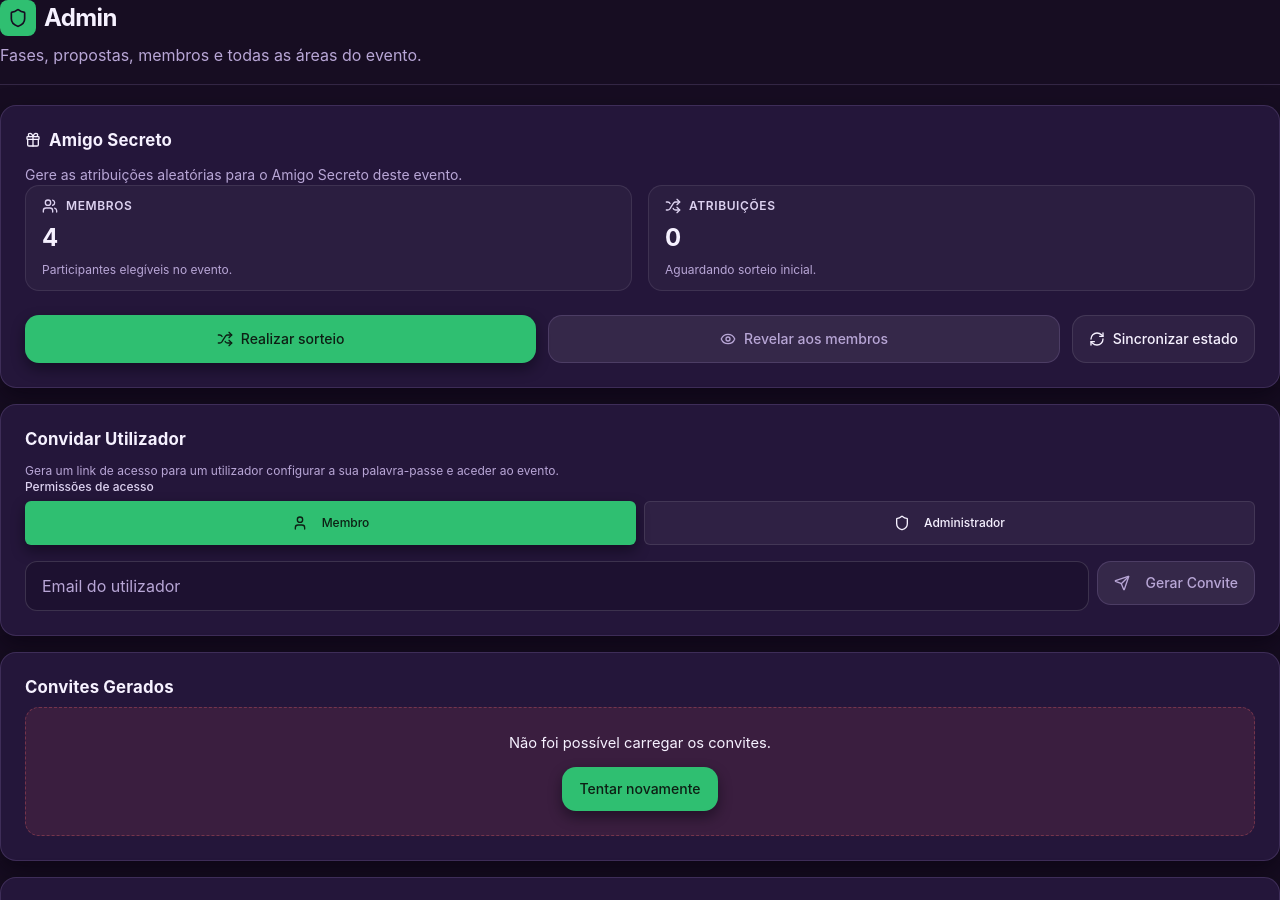
it: CanhoesAdminModule — members › generates an invite link for an admin
The image size is (1280, 900).
Click the button "Administrador": (950,523) x1=644 y1=501 x2=1255 y2=545
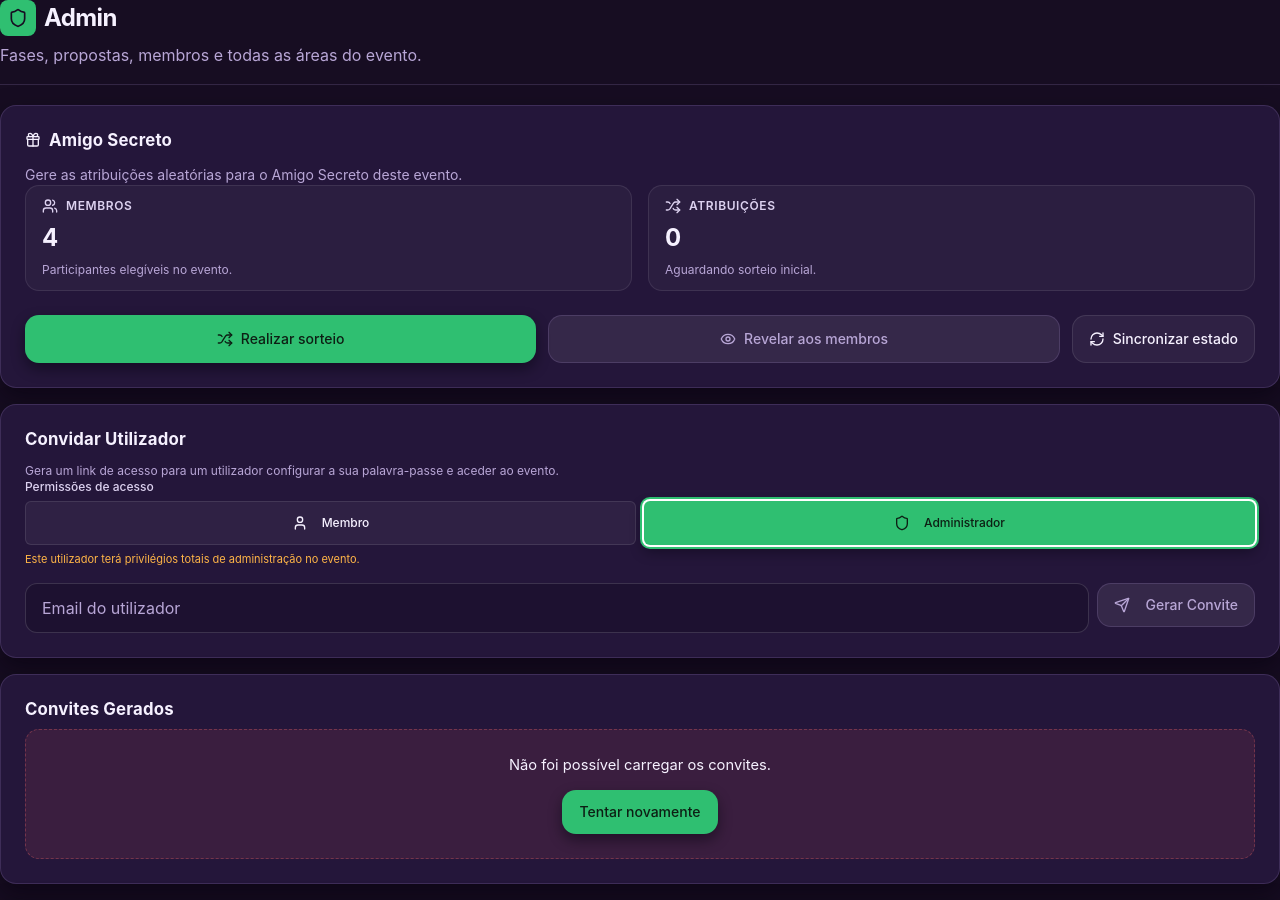
In the field with placeholder "Email do utilizador": (557,608) x1=25 y1=583 x2=1088 y2=633, type "novo-admin@canhoes.pt"
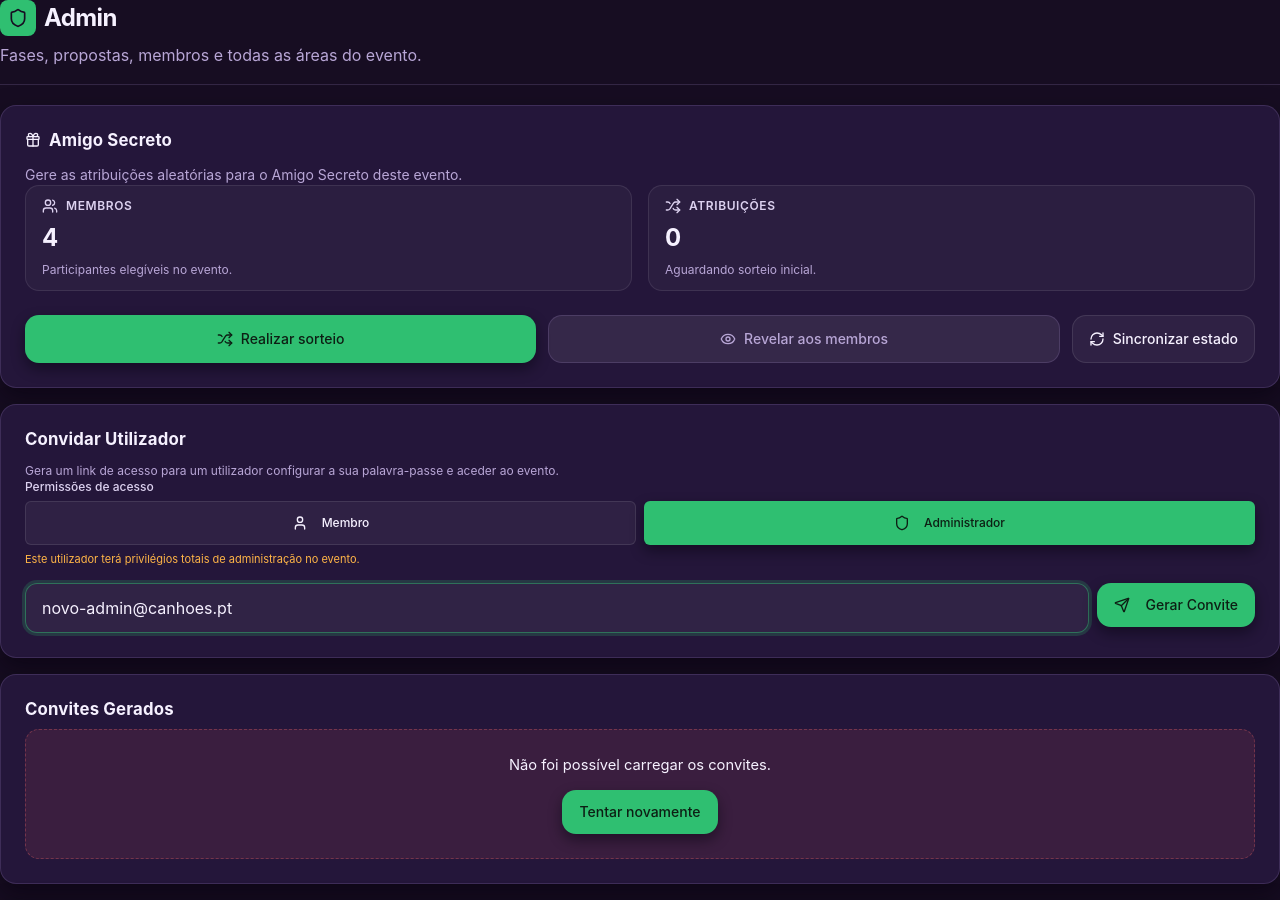
Click the button "Gerar Convite": (1176,605) x1=1096 y1=583 x2=1255 y2=627
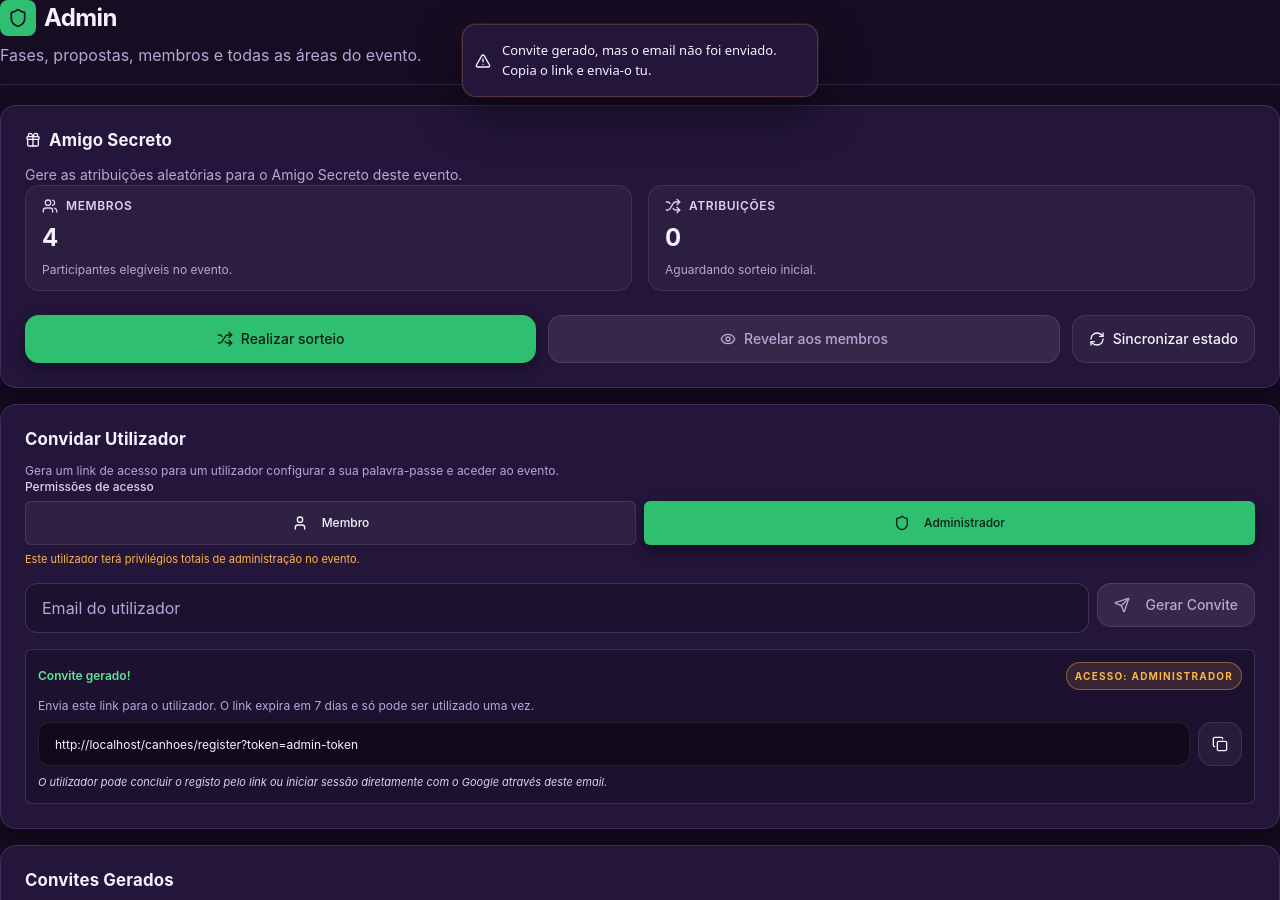
Expected: the text "Convite gerado!" is shown, x1=38 y1=668 x2=130 y2=684
Expected: the text "Acesso: Administrador" is shown, x1=1066 y1=662 x2=1242 y2=690
Expected: the field showing "register?token=admin-token" is shown, x1=38 y1=722 x2=1190 y2=766
